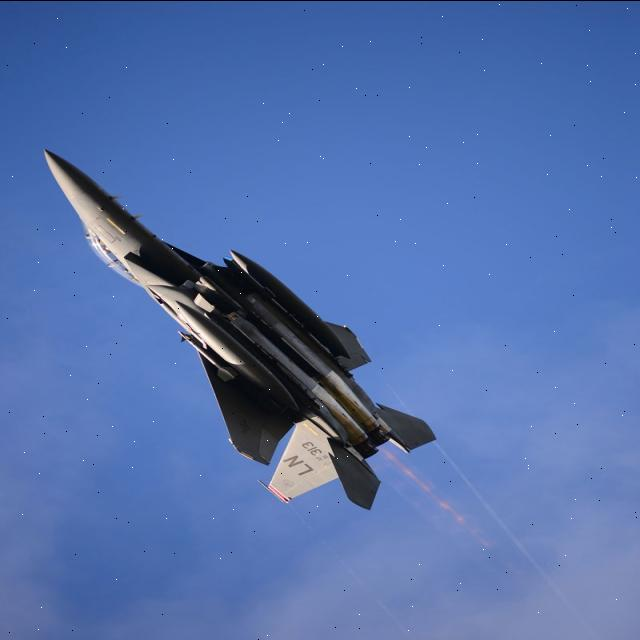F15: (20, 109, 468, 531)
